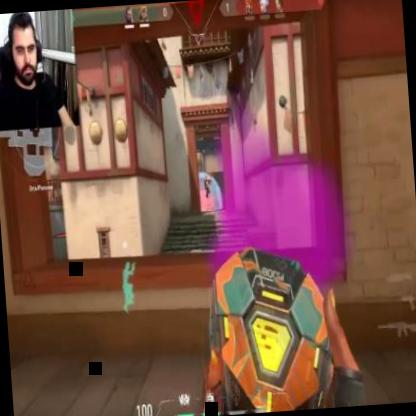enemy: (202, 174, 210, 198)
enemy_head: (204, 174, 208, 180)
